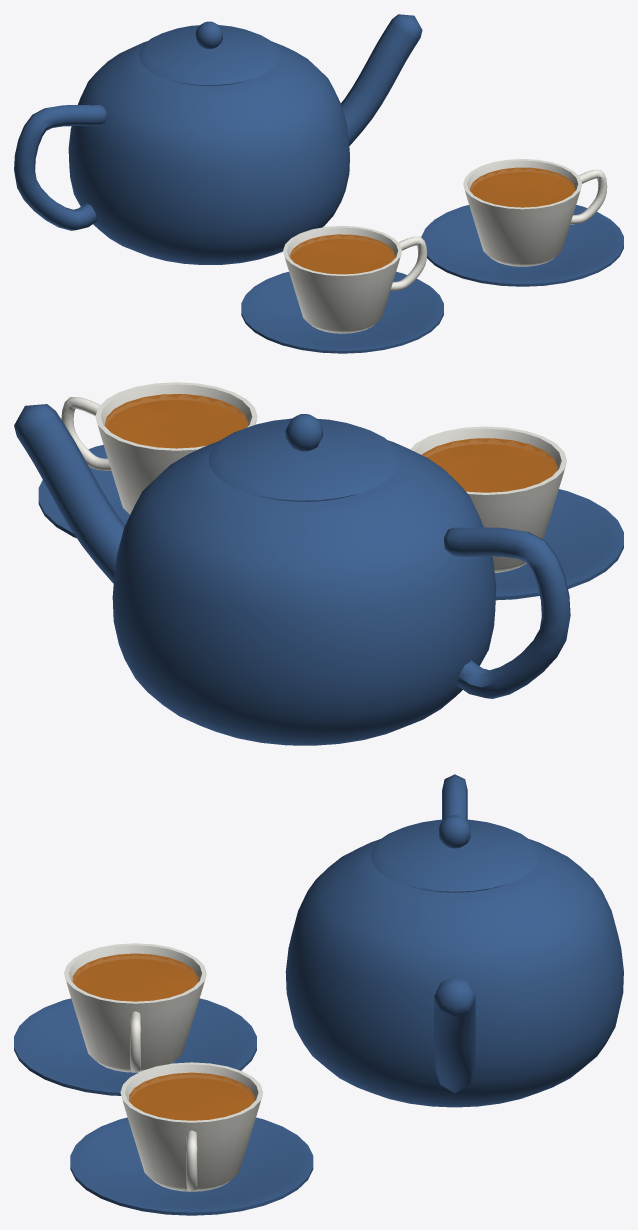
Rendered from drink_tea_pot_and_cups.glb.
3 views of the same model, one above another, from view 1: azimuth 30°, elevation 25°; view 2: azimuth 150°, elevation 25°; view 3: azimuth 270°, elevation 25° (orthographic). The views are drawn at different scales.
Visible parts, largest first — view 1: drink_tea_pot_and_cups; view 2: drink_tea_pot_and_cups; view 3: drink_tea_pot_and_cups.
Part boxes in pixels (x1=…): drink_tea_pot_and_cups: x1=14, y1=14, x2=623, y2=353; drink_tea_pot_and_cups: x1=14, y1=382, x2=623, y2=745; drink_tea_pot_and_cups: x1=14, y1=774, x2=623, y2=1215.
Size of the model in its own units: 0.3584 by 0.1475 by 0.3246.
